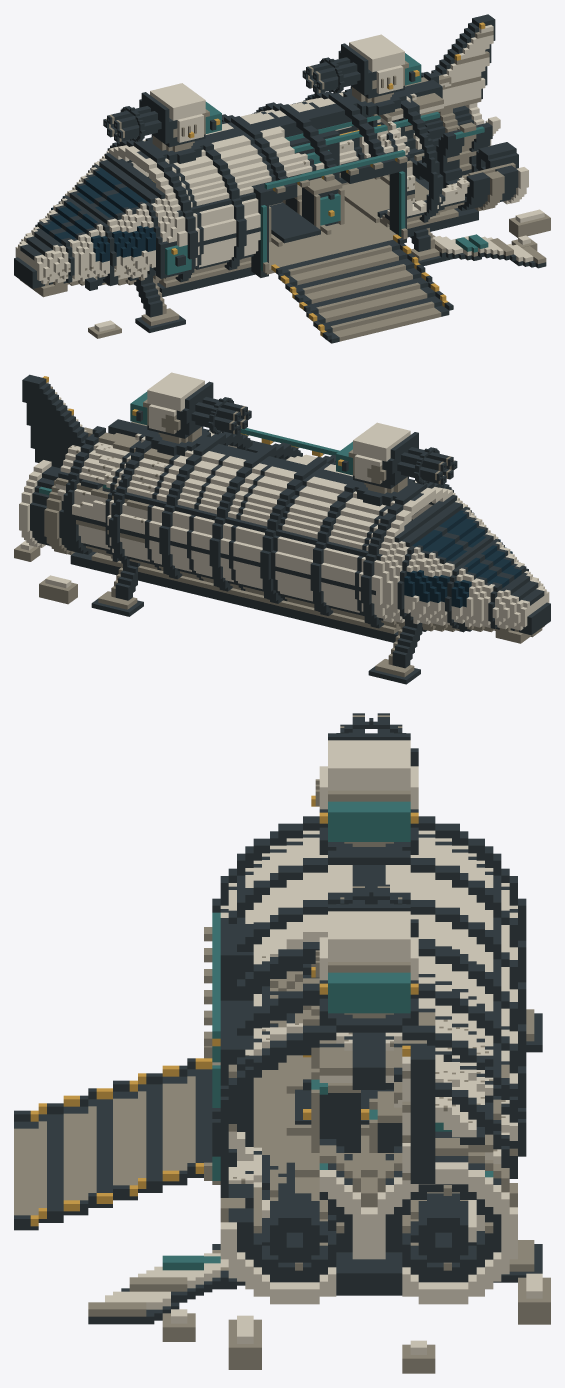
The model's file is crashsite-walkable-v1.glb.
3 views of the same model, one above another, from view 1: azimuth 30°, elevation 25°; view 2: azimuth 150°, elevation 25°; view 3: azimuth 270°, elevation 25° (orthographic). The views are drawn at different scales.
Visible parts, largest first — view 1: hull, cargo_bay, spine, rear, cockpit, debris, turret_aft, turret_fore; view 2: hull, spine, cockpit, rear, turret_aft, turret_fore, debris, cargo_bay; view 3: cargo_bay, rear, hull, spine, debris, turret_aft, turret_fore.
Part boxes in pixels (box(x1,y1,x2,y2)): hull: box(14, 75, 469, 297); cargo_bay: box(251, 130, 453, 343); spine: box(107, 72, 478, 297); rear: box(398, 14, 528, 211); cockpit: box(20, 153, 165, 285); debris: box(88, 203, 550, 338); turret_aft: box(302, 34, 421, 115); turret_fore: box(103, 83, 221, 164); hull: box(55, 421, 550, 643); spine: box(63, 419, 453, 642); cockpit: box(394, 495, 544, 632); rear: box(19, 374, 110, 554); turret_aft: box(130, 372, 251, 456); turret_fore: box(336, 422, 457, 506); debris: box(14, 540, 542, 684); cargo_bay: box(240, 428, 339, 459); cargo_bay: box(14, 912, 443, 1230); rear: box(220, 1045, 517, 1304); hull: box(220, 830, 517, 1245); spine: box(212, 816, 526, 1219); debris: box(88, 971, 550, 1373); turret_aft: box(311, 884, 418, 1032); turret_fore: box(311, 713, 418, 854).
Bounding box in the file's own units: 15.12 × 5.5 × 8.12.
